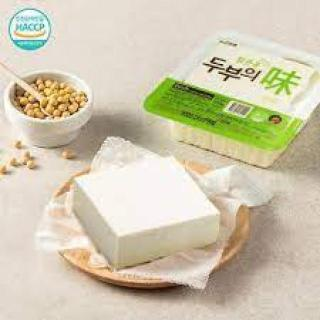Tahu: (63, 147, 229, 283)
